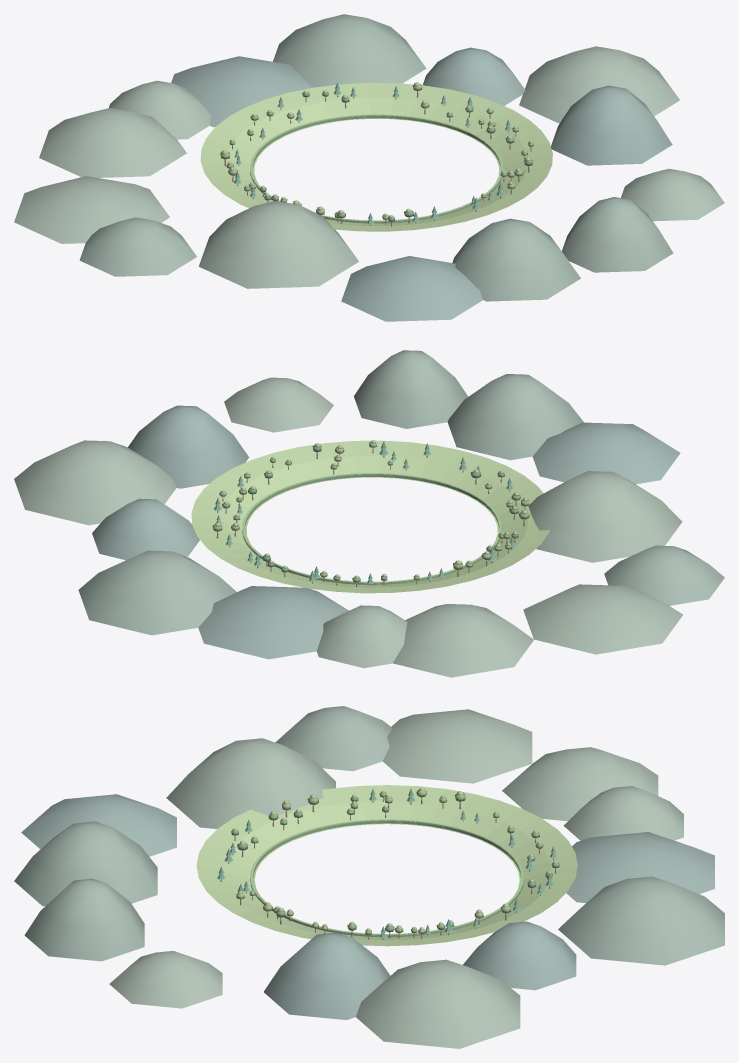
The model's file is env_lite.glb.
The picture shows the model from 3 angles, top to bottom: view 1: azimuth 30°, elevation 25°; view 2: azimuth 150°, elevation 25°; view 3: azimuth 270°, elevation 25°; orthographic projection. The views are drawn at different scales.
Parts seen in each view (by area): view 1: Env_far, Env_terrain, Env_props; view 2: Env_far, Env_terrain, Env_props; view 3: Env_far, Env_terrain, Env_props.
Part boxes in pixels (box(x1,y1,x2,y2)): Env_far: box(14, 14, 724, 321); Env_terrain: box(200, 82, 552, 231); Env_props: box(220, 82, 533, 226); Env_far: box(14, 350, 724, 677); Env_terrain: box(191, 440, 549, 593); Env_props: box(212, 440, 529, 586); Env_far: box(14, 706, 724, 1048); Env_terrain: box(196, 785, 577, 946); Env_props: box(217, 787, 559, 939).
Size of the model in its own units: 301 by 23.46 by 268.
